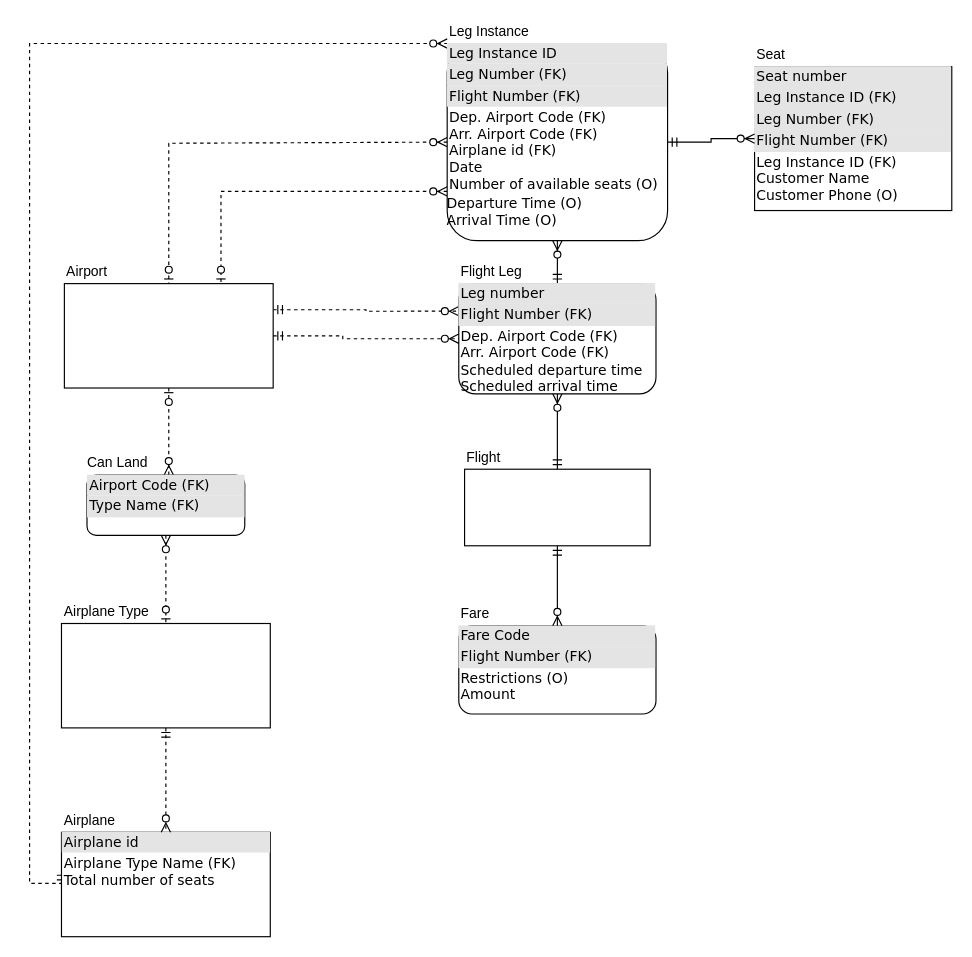
The diagram is 972 pixels wide and 957 high, and some of its shapes have lost their labels. The box of each missing label's shape, as (x1, y1, x2, y2) in pixels:
Airport Code City State Name (O): (63, 282, 273, 388)
Flight Number Airline Weekdays: (463, 468, 650, 546)
Type Name Company (O) Max Seats (O): (60, 622, 270, 728)
